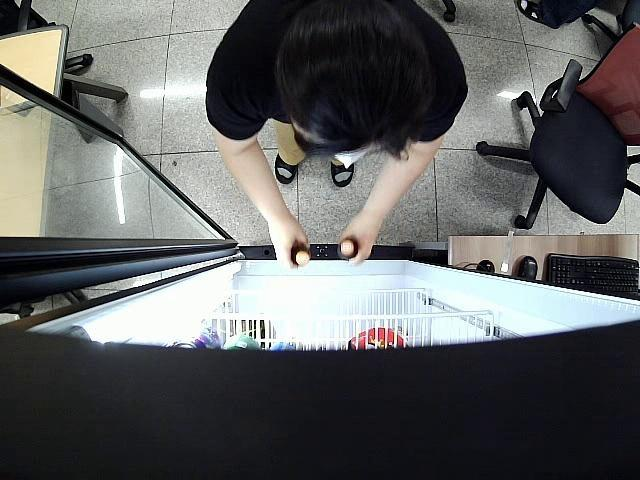17_vita500: (286, 243, 312, 270), (334, 235, 360, 262)
